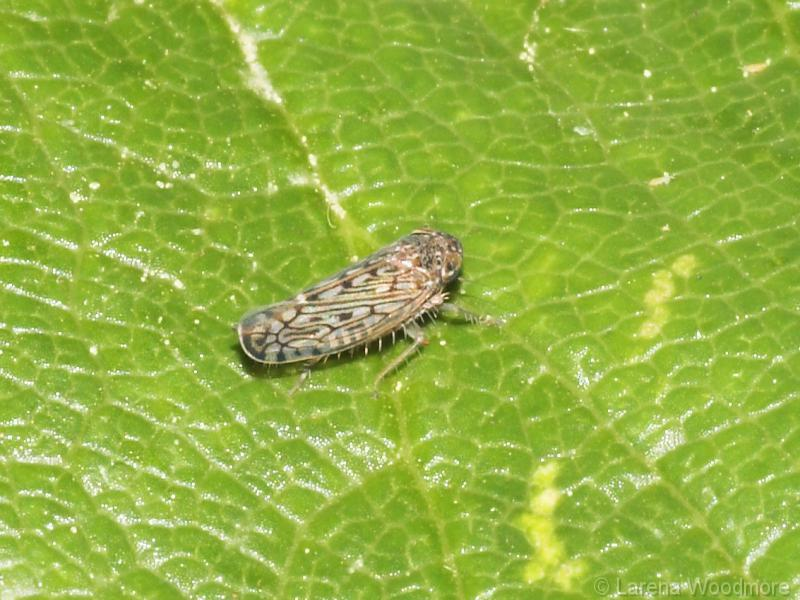Brown_plant_leafhopper: (200, 218, 487, 384)
